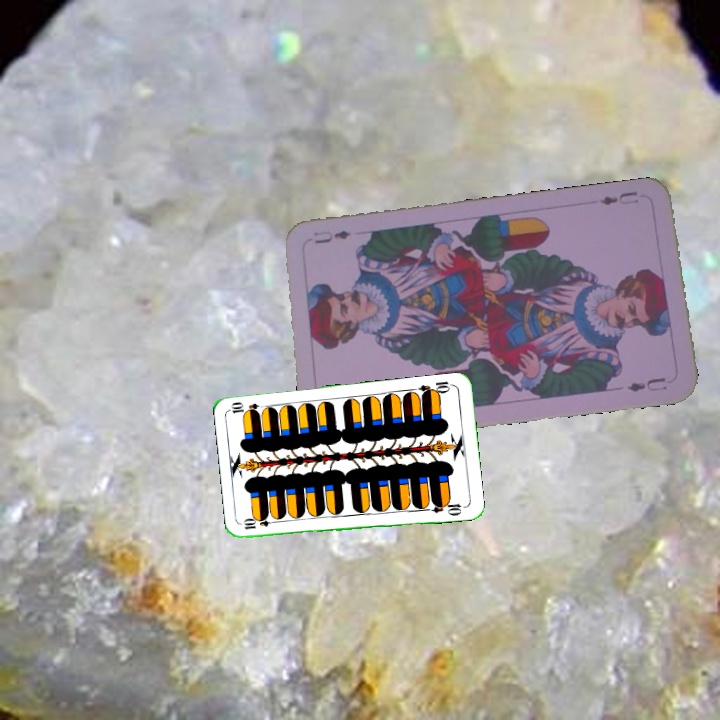E10: (415, 377, 456, 399), (239, 515, 280, 532)
EU: (596, 187, 640, 208)
